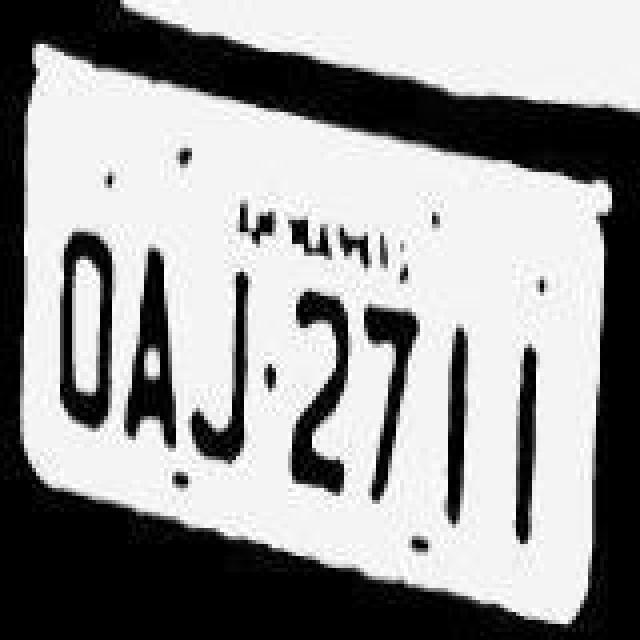1: (500, 316, 556, 568), (434, 292, 486, 552)
2: (286, 274, 354, 518)
7: (358, 294, 426, 530)
A: (116, 208, 188, 460)
J: (190, 258, 258, 482)
O: (44, 192, 116, 448)
